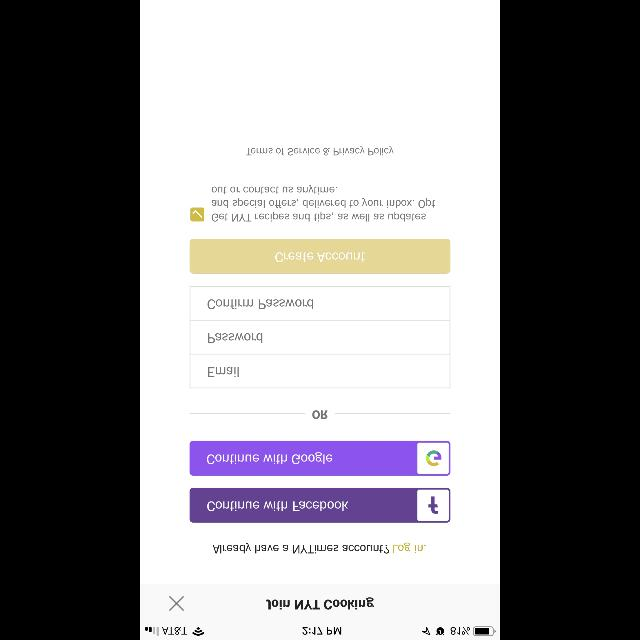checkbox: (192, 207, 204, 221)
icon: (170, 596, 184, 610)
input: (190, 354, 450, 388), (190, 320, 450, 354), (190, 286, 450, 320)
text: (212, 184, 436, 222), (212, 542, 426, 554), (246, 146, 394, 156), (266, 597, 374, 609), (207, 299, 313, 309), (209, 333, 263, 343), (208, 367, 240, 377), (312, 410, 328, 418)
textbutton: (190, 238, 450, 274), (190, 488, 450, 522), (190, 441, 450, 475)
uppertaskbar: (140, 626, 500, 640)
